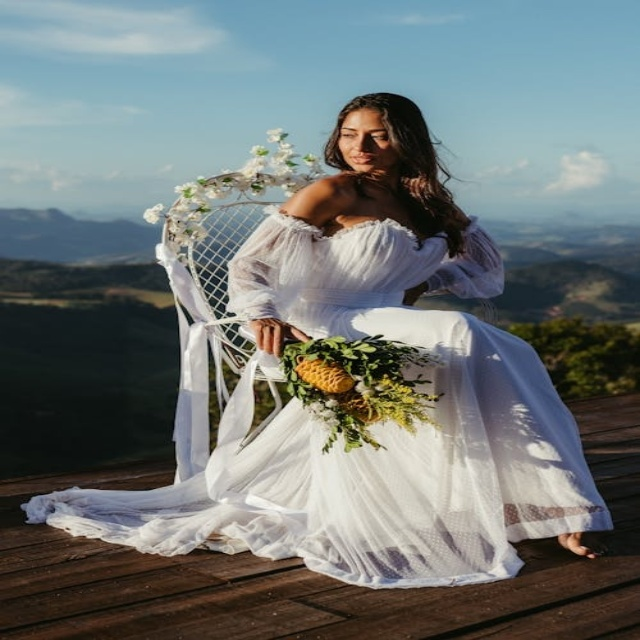Sin_gafas: (340, 125, 388, 144)
Sin_guantes: (249, 319, 301, 356)
Sin_mascara: (347, 152, 380, 168)
